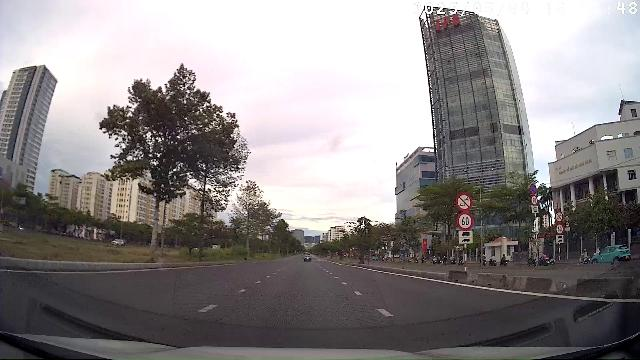127-toc-do-toi-da-60: (457, 212, 473, 231), (555, 223, 564, 235), (531, 195, 538, 205)
130-cam-dung-va-do-xe: (529, 184, 537, 195)
